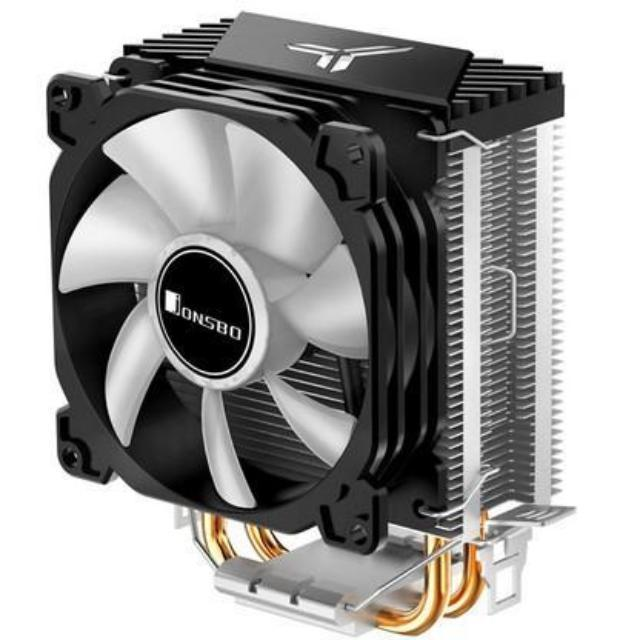CPU_Fan: (44, 12, 582, 634)
